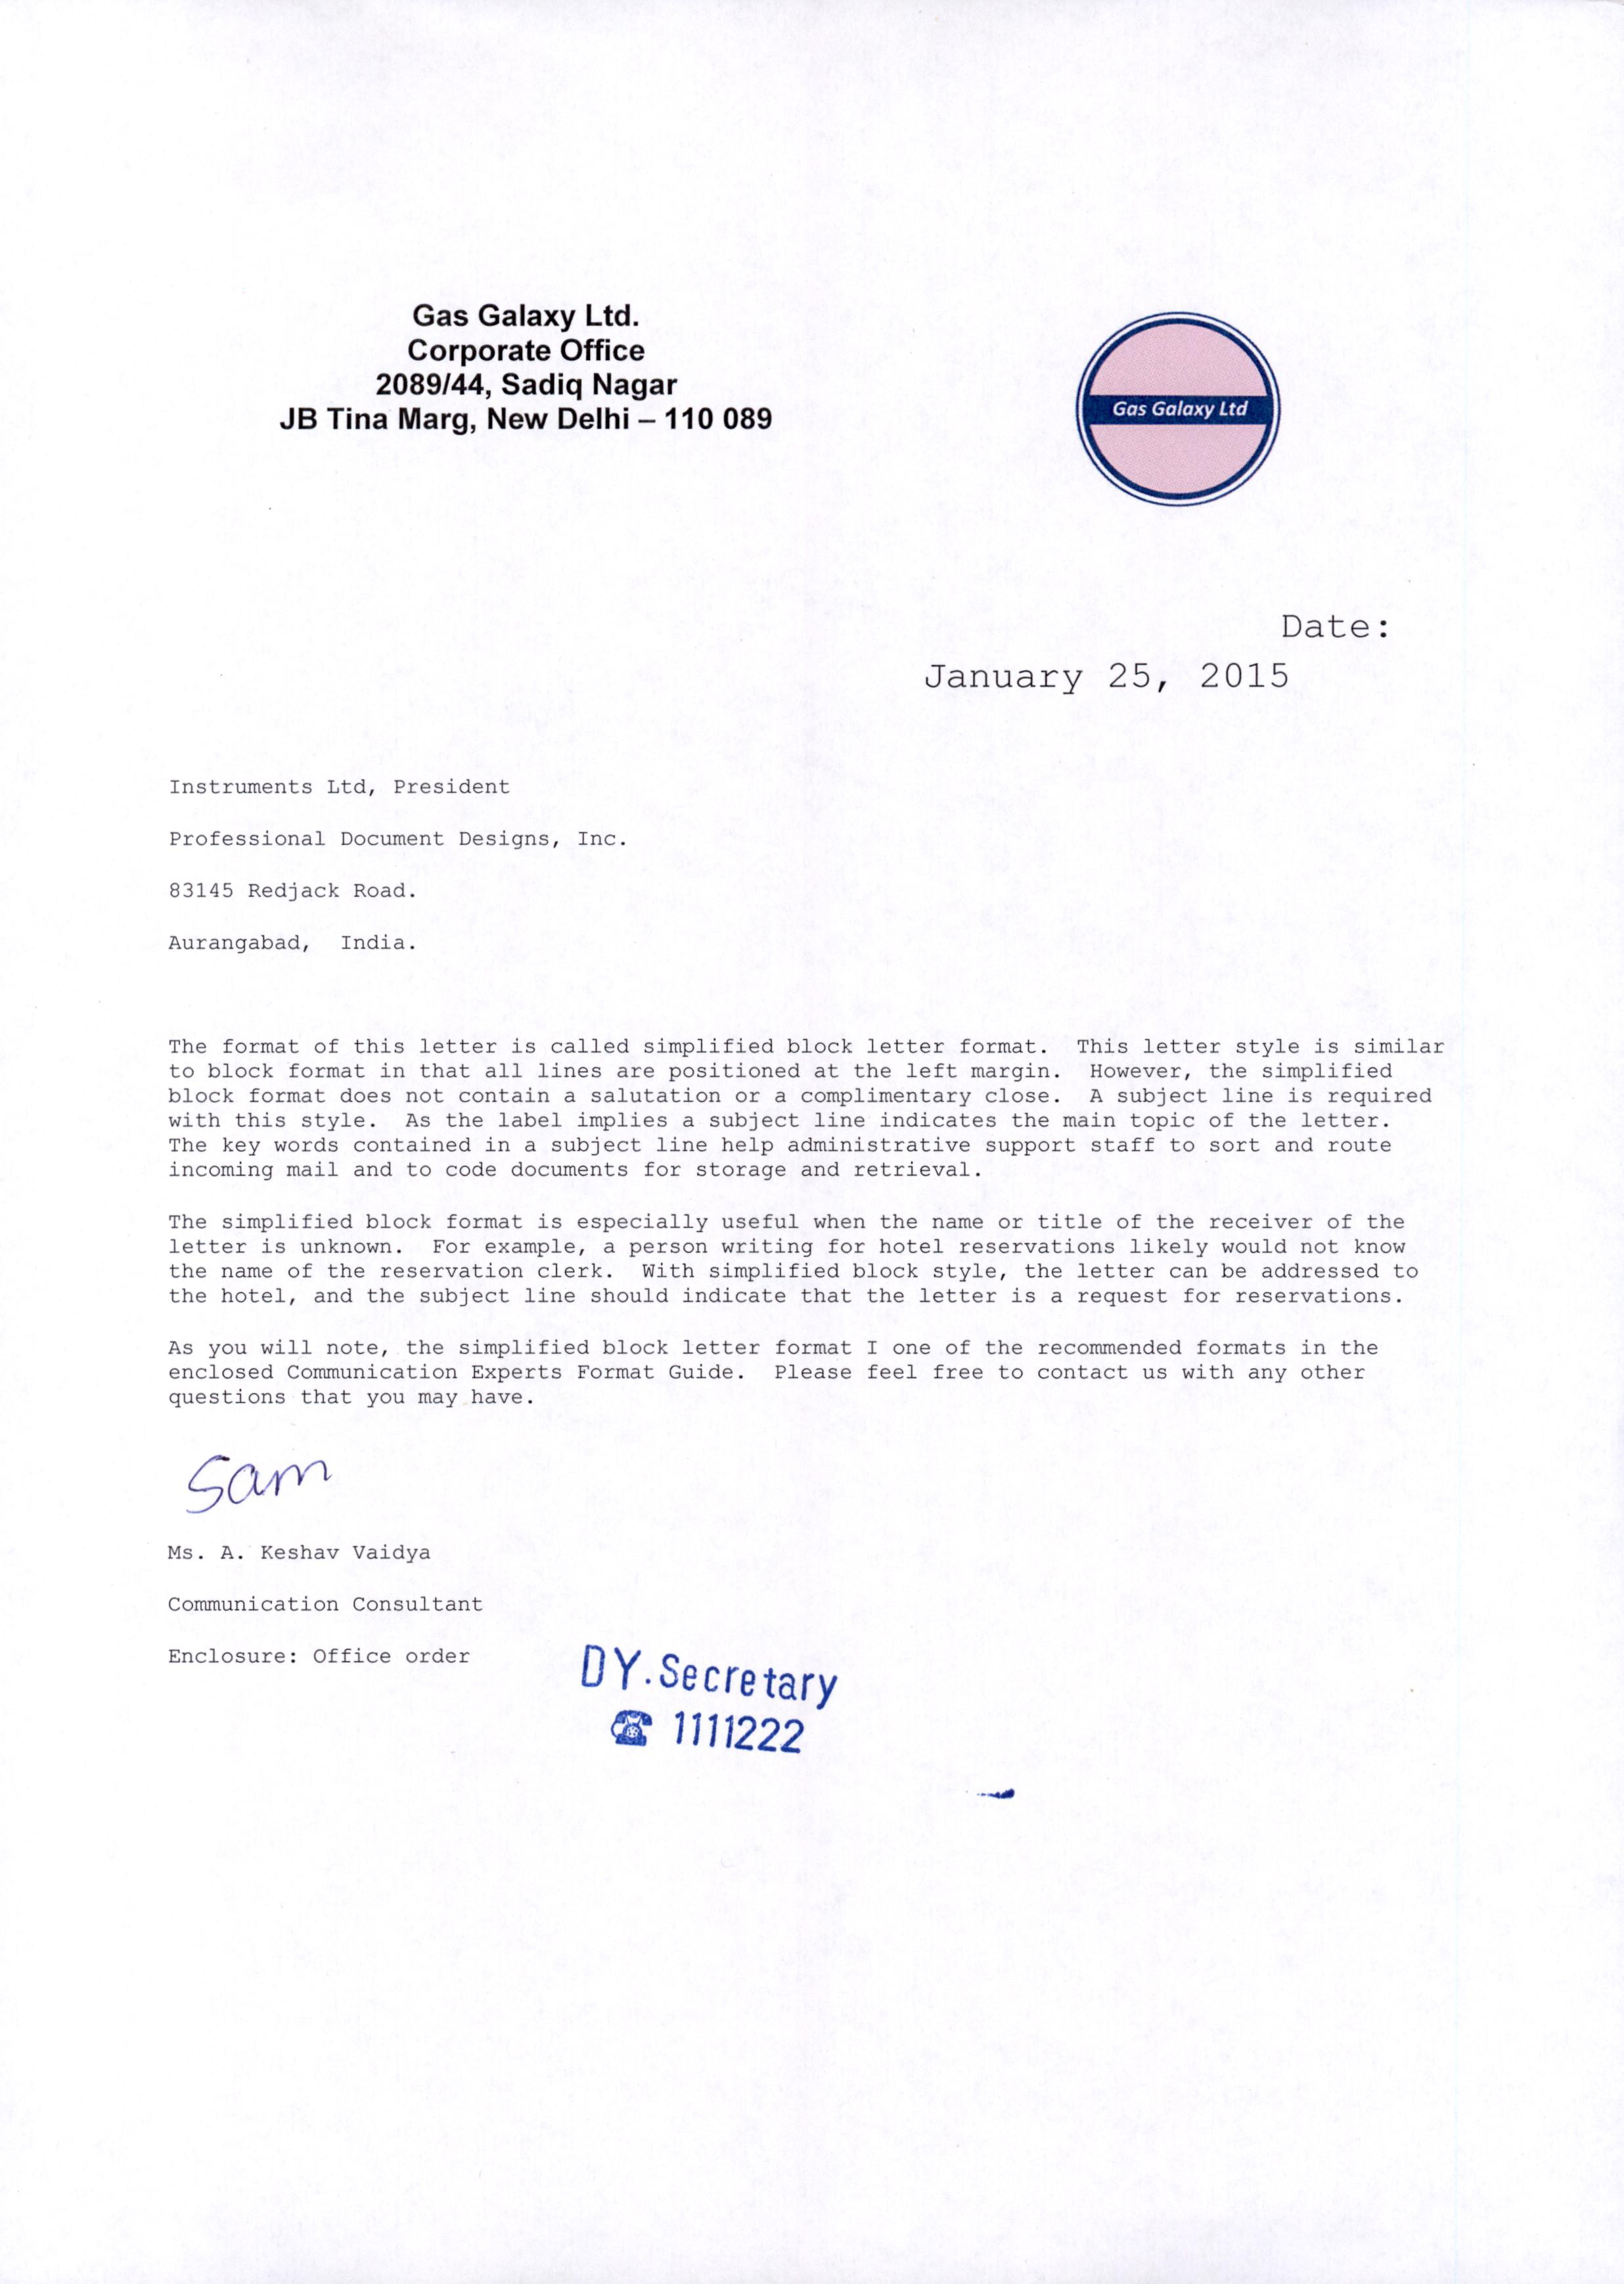Signature: (169, 1440, 348, 1519)
